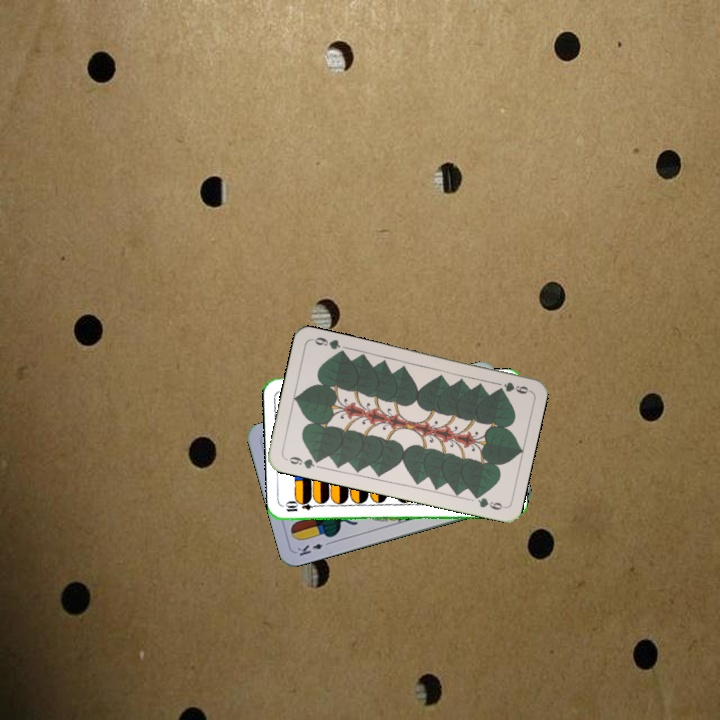E10: (282, 500, 322, 514)
EK: (293, 537, 333, 559)
G9: (281, 452, 323, 472), (494, 378, 532, 397)
